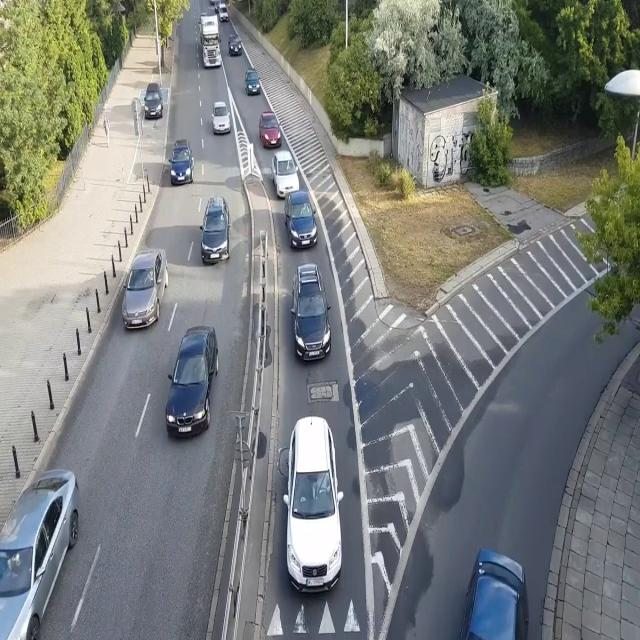car: (0, 464, 82, 640), (280, 415, 345, 593), (457, 543, 532, 640), (166, 323, 220, 438), (120, 246, 171, 331), (290, 262, 332, 364), (198, 194, 232, 264), (285, 188, 318, 252), (270, 150, 301, 199), (169, 138, 194, 186), (144, 80, 164, 120), (259, 111, 281, 147), (212, 100, 231, 136), (243, 67, 262, 96), (228, 32, 243, 58), (214, 0, 221, 13)
truck: (200, 16, 222, 68)
van: (218, 4, 229, 24)
